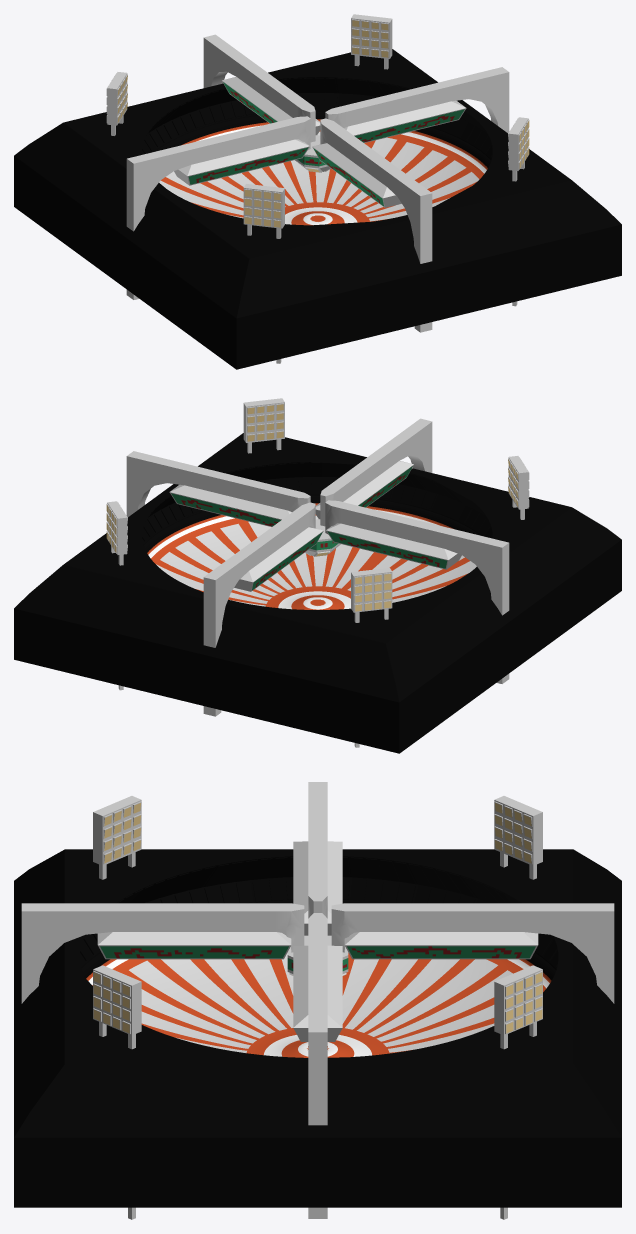
The model's file is test derby3.FBX.
The picture shows the model from 3 angles, top to bottom: view 1: azimuth 30°, elevation 25°; view 2: azimuth 150°, elevation 25°; view 3: azimuth 270°, elevation 25°; orthographic projection. The views are drawn at different scales.
Parts seen in each view (by area): view 1: object 1, Box005, Object001, Box003, Box001, Box002, Box004; view 2: object 1, Box005, Object001, Box004, Box002, Box001, Box003; view 3: object 1, Box005, Object001, Box001, Box002, Box003, Box004.
Boxes of the visible parts, x1=… form: object 1: x1=14, y1=49, x2=621, y2=369; Box005: x1=126, y1=34, x2=509, y2=332; Object001: x1=155, y1=111, x2=491, y2=225; Box003: x1=243, y1=184, x2=284, y2=363; Box001: x1=351, y1=14, x2=392, y2=69; Box002: x1=508, y1=117, x2=529, y2=306; Box004: x1=106, y1=72, x2=127, y2=135; object 1: x1=14, y1=433, x2=621, y2=753; Box005: x1=126, y1=418, x2=509, y2=716; Object001: x1=144, y1=495, x2=480, y2=609; Box004: x1=351, y1=568, x2=392, y2=747; Box002: x1=243, y1=398, x2=284, y2=453; Box001: x1=106, y1=501, x2=127, y2=690; Box003: x1=508, y1=456, x2=529, y2=519; object 1: x1=14, y1=849, x2=621, y2=1207; Box005: x1=21, y1=782, x2=614, y2=1218; Object001: x1=81, y1=902, x2=556, y2=1057; Box001: x1=494, y1=965, x2=542, y2=1219; Box002: x1=93, y1=965, x2=141, y2=1219; Box003: x1=93, y1=796, x2=141, y2=879; Box004: x1=494, y1=796, x2=542, y2=879.
Size of the model in its own units: 1575 by 676 by 1575.
